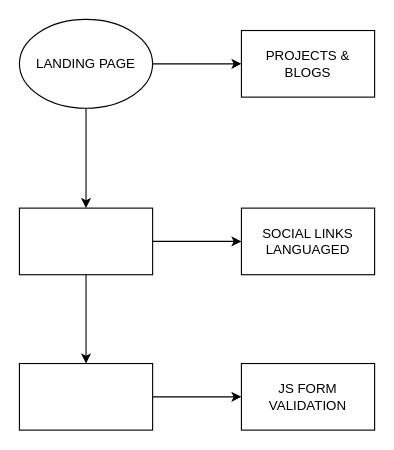
This 394x450 diagram has some shape labels left out. The box of each missing label's shape, as (x1, y1, x2, y2) in pixels:
ABOUT/BIO: (18, 207, 153, 275)
CONTACT ME/FORMS: (18, 362, 153, 430)
